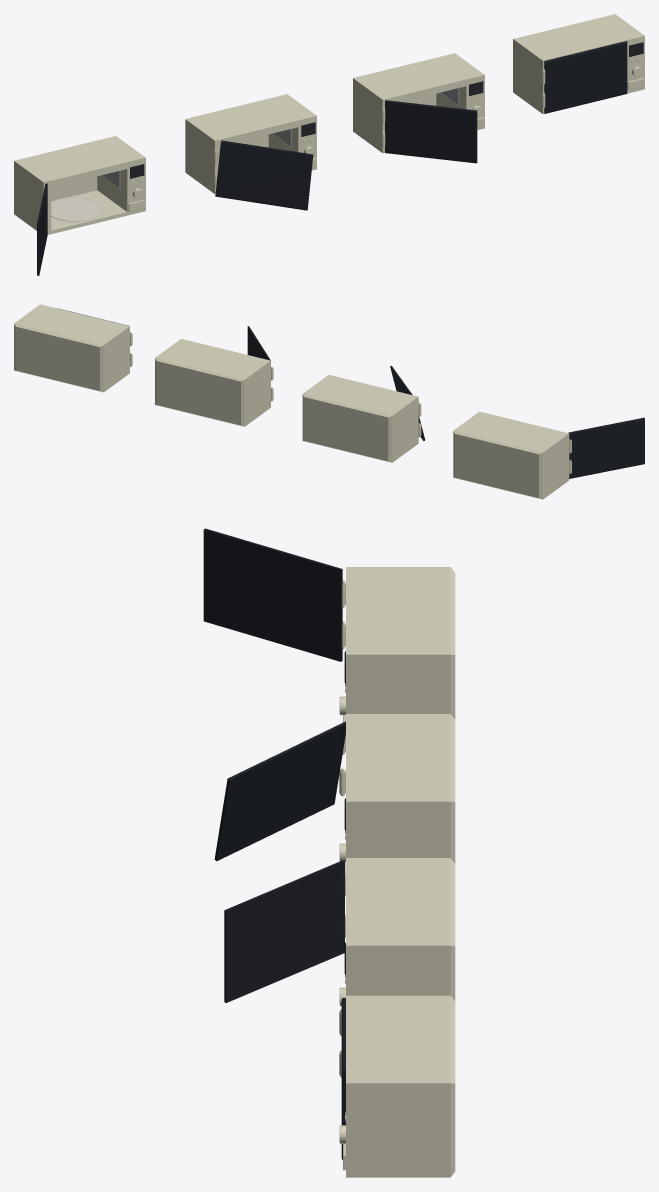
Rendered from Microwaves.fbx.
The picture shows the model from 3 angles, top to bottom: view 1: azimuth 30°, elevation 25°; view 2: azimuth 150°, elevation 25°; view 3: azimuth 270°, elevation 25°; orthographic projection. The views are drawn at different scales.
Visible parts, largest first — view 1: pCylinder33, pCylinder32, pCube23, pCylinder31; view 2: pCube23, pCylinder32, pCylinder33, pCylinder31; view 3: pCube23, pCylinder32, pCylinder33, pCylinder31.
Boxes of the visible parts, <box> form: pCylinder33: <box>185,94,316,210</box>; pCylinder32: <box>353,53,484,163</box>; pCube23: <box>14,136,145,275</box>; pCylinder31: <box>513,14,644,113</box>; pCube23: <box>453,411,644,499</box>; pCylinder32: <box>155,326,273,426</box>; pCylinder33: <box>302,366,425,462</box>; pCylinder31: <box>14,304,132,392</box>; pCube23: <box>203,528,455,722</box>; pCylinder32: <box>224,858,455,1006</box>; pCylinder33: <box>214,714,455,873</box>; pCylinder31: <box>339,995,455,1177</box>.
Size of the model in its own units: 13.07 by 1.09 by 2.5.
